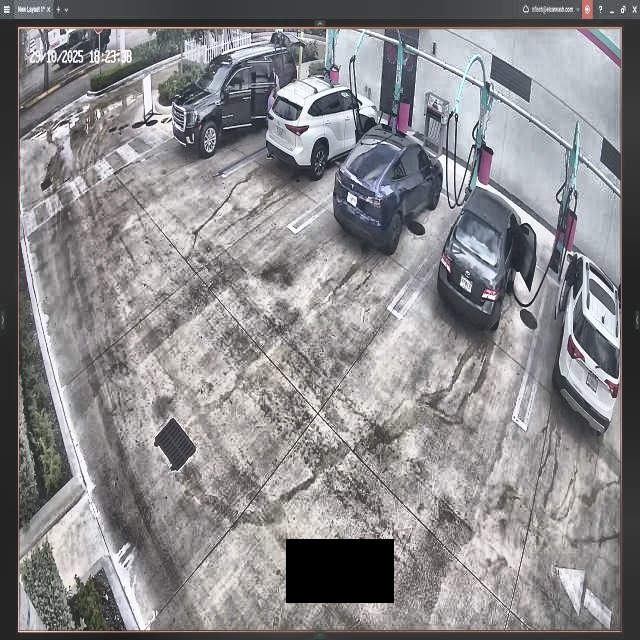Car: (438, 185, 535, 328), (333, 121, 442, 248), (268, 75, 377, 173)
